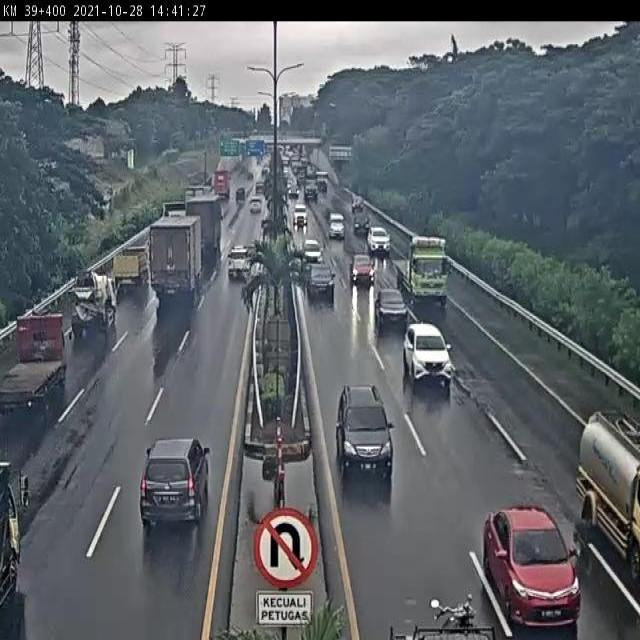car: (479, 504, 581, 635), (138, 436, 210, 525), (334, 384, 394, 480), (401, 322, 452, 389), (373, 289, 409, 332), (306, 263, 335, 301), (349, 254, 375, 286), (227, 244, 252, 277), (301, 238, 323, 266)
mid truck: (389, 227, 449, 305), (148, 215, 203, 296)
small truck: (112, 247, 150, 289)
truck-m-: (577, 411, 640, 584), (0, 311, 69, 412), (70, 270, 118, 334)
